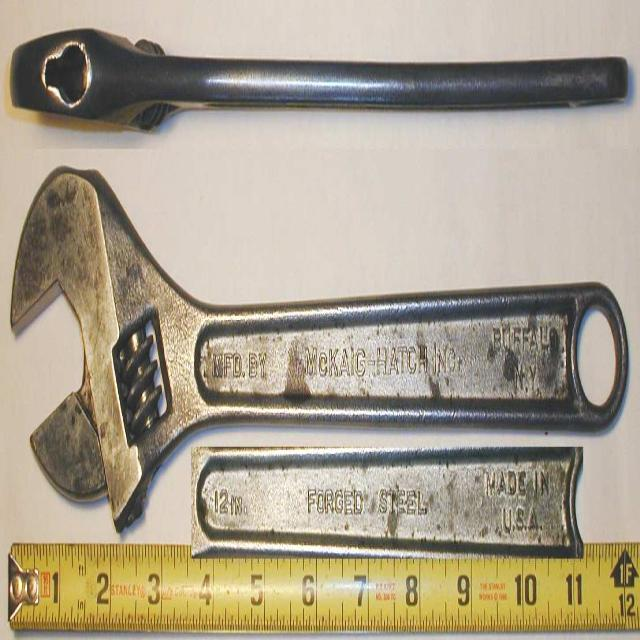wrench: (3, 152, 640, 522)
